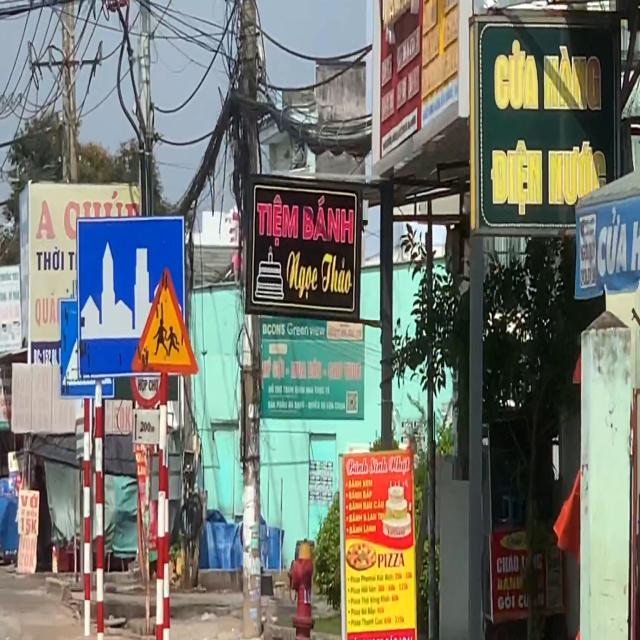Nguy hiem: (131, 266, 199, 376)
